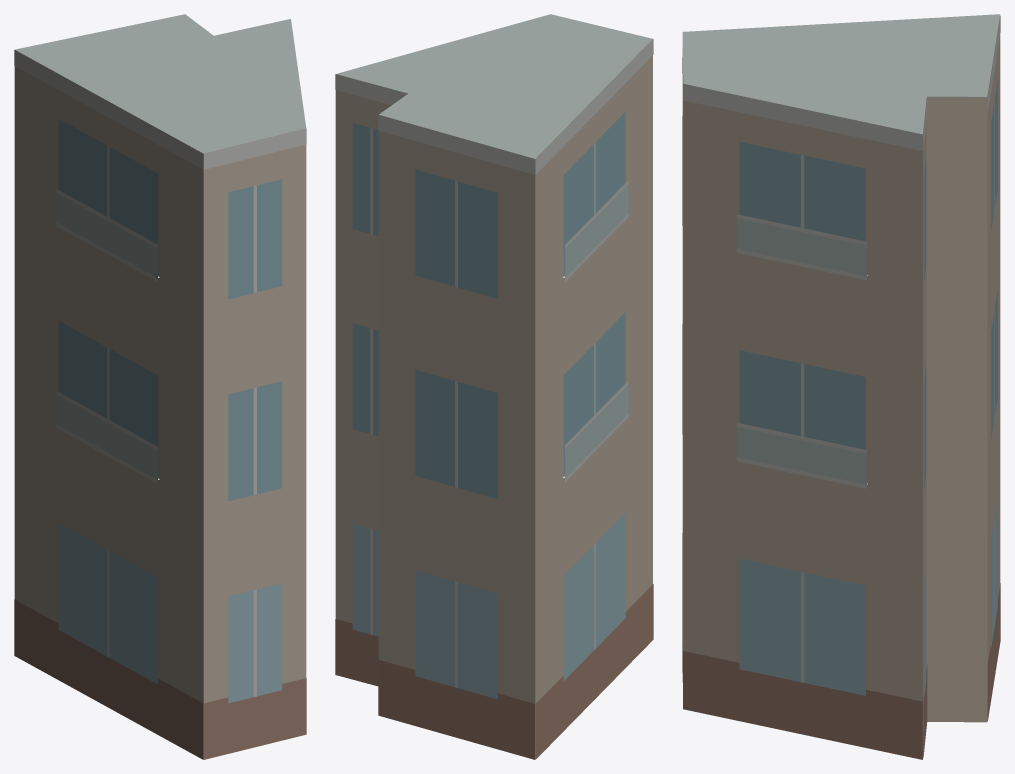
File: survey-upis-32564949.glb
3 renders of one model, left to right at view 1: azimuth 30°, elevation 25°; view 2: azimuth 150°, elevation 25°; view 3: azimuth 270°, elevation 25°, orthographic. The views are drawn at different scales.
Visible parts, largest first — view 1: survey-upis-32564949.tmp; view 2: survey-upis-32564949.tmp; view 3: survey-upis-32564949.tmp.
Part boxes in pixels (left/top/right/bottom): survey-upis-32564949.tmp: left=14, top=14, right=306, bottom=759; survey-upis-32564949.tmp: left=335, top=14, right=653, bottom=759; survey-upis-32564949.tmp: left=682, top=14, right=1000, bottom=759.
Bounding box in the file's own units: 3.79 × 9.15 × 4.23.
